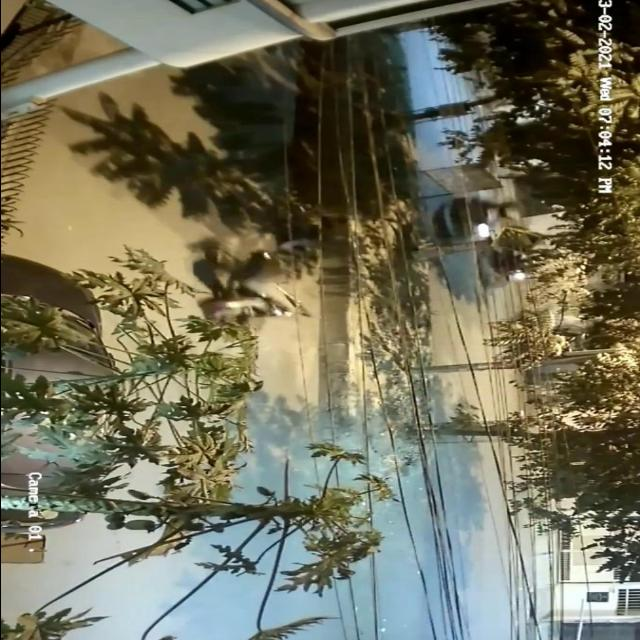accident: (181, 212, 343, 348)
